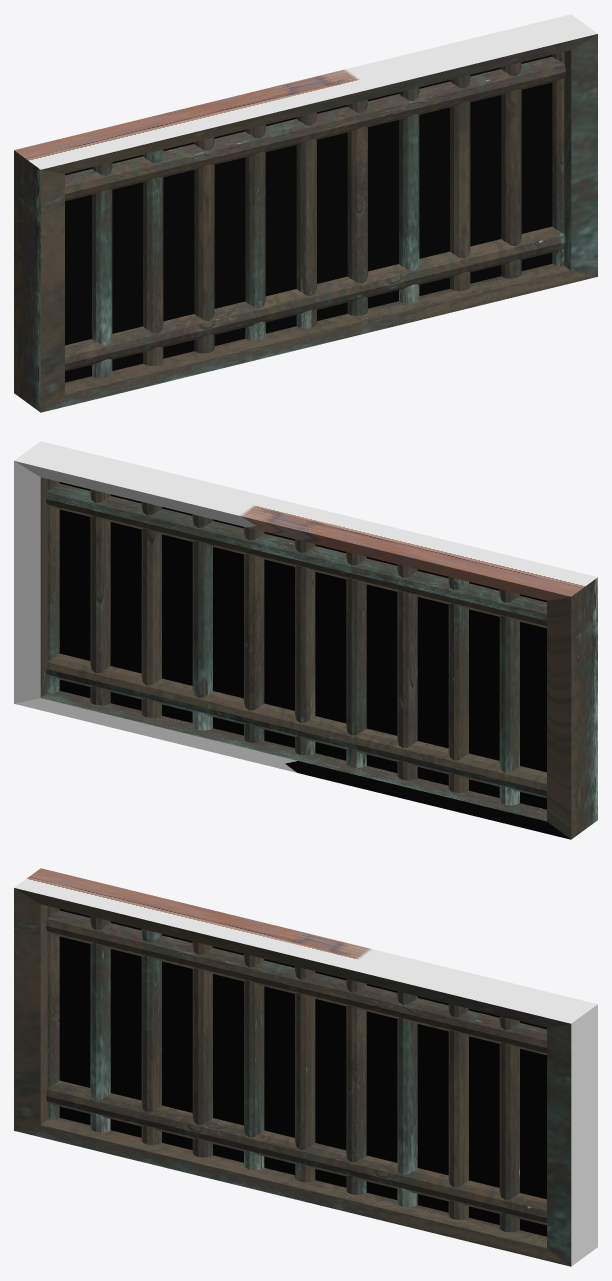
The model's file is ObvDeck.glb.
3 renders of one model, top to bottom at view 1: azimuth 30°, elevation 25°; view 2: azimuth 150°, elevation 25°; view 3: azimuth 330°, elevation 25°, orthographic.
Parts seen in each view (by area): view 1: Cube.004; view 2: Cube.004; view 3: Cube.004.
Boxes of the visible parts, bbox=[...] form: Cube.004: bbox=[14, 14, 597, 412]; Cube.004: bbox=[14, 441, 597, 839]; Cube.004: bbox=[14, 868, 597, 1266].
Size of the model in its own units: 4.8 by 2 by 0.4.
1 material, 1 textured.
